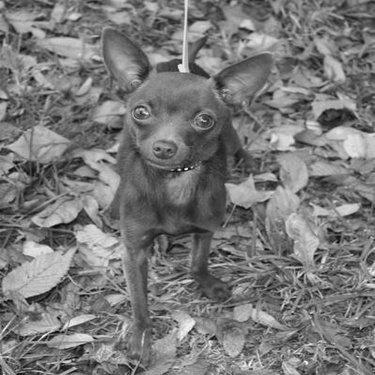dog: (90, 18, 278, 349)
